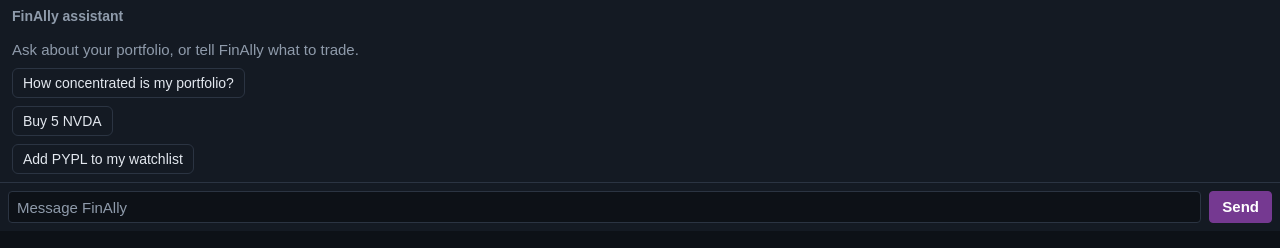
Scenario: ChatPanel › does not refresh the account when nothing executed
The image size is (1280, 248).
In the field labelled "Message FinAlly": (605, 207) [8,191,1201,223], type "Hi"
Then press Enter
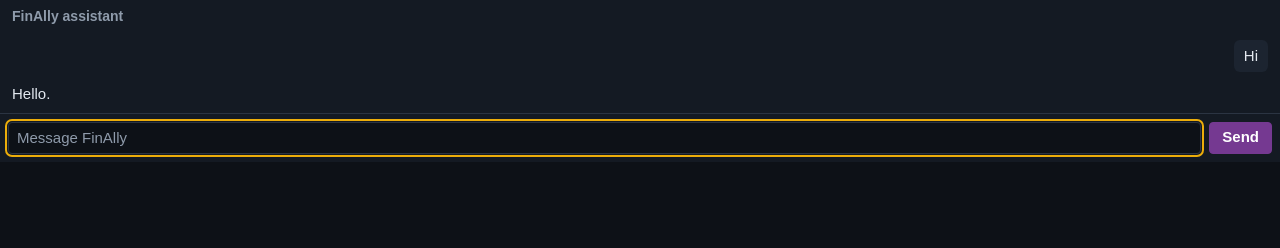
Expected: the text "Hello." is shown, [12,85,50,102]
